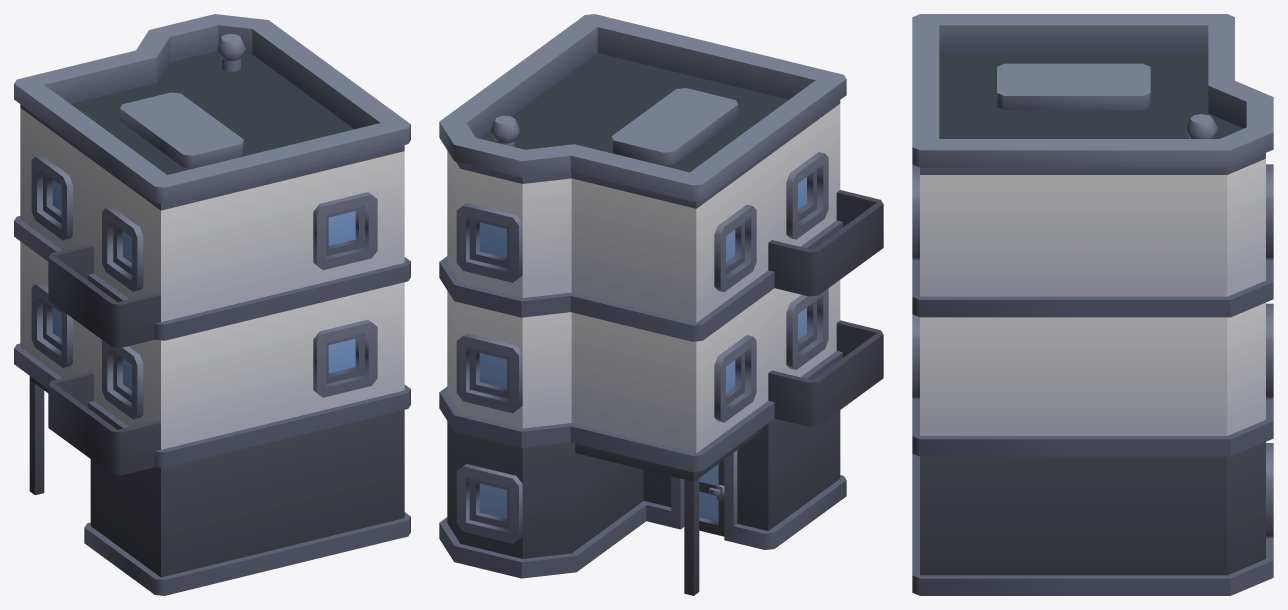
The model's file is building-b.glb.
The picture shows the model from 3 angles, left to right: view 1: azimuth 30°, elevation 25°; view 2: azimuth 150°, elevation 25°; view 3: azimuth 270°, elevation 25°; orthographic projection. The views are drawn at different scales.
Parts seen in each view (by area): view 1: building-b; view 2: building-b; view 3: building-b.
Boxes of the visible parts, box(x1,y1,x2,y2) form: building-b: box(14, 14, 410, 595); building-b: box(439, 14, 883, 595); building-b: box(912, 14, 1273, 595).
Size of the model in its own units: 0.9701 by 1.29 by 0.94.
Materials: 1 (1 with a texture image).
